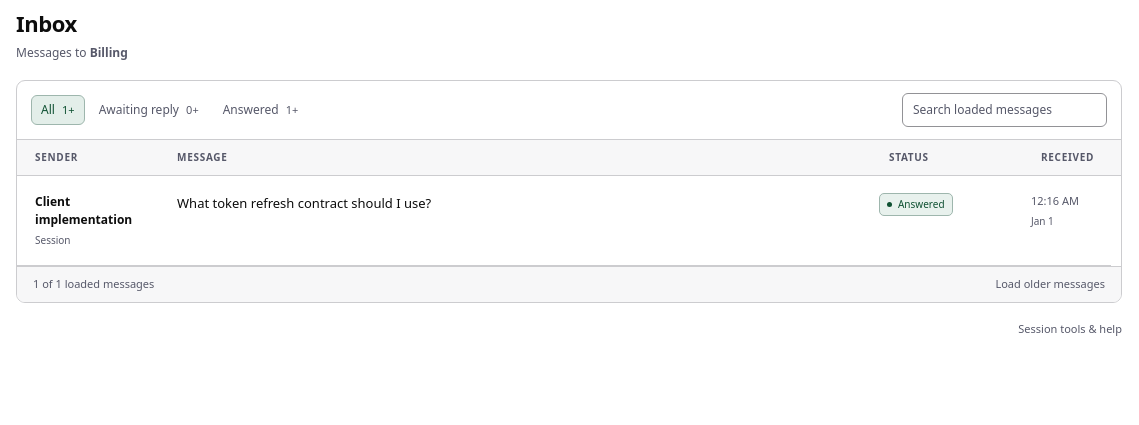
Test: session inbox › loads older messages without losing the latest page
Click the button "Load older messages" at (1050, 284), box [996, 276, 1105, 293]
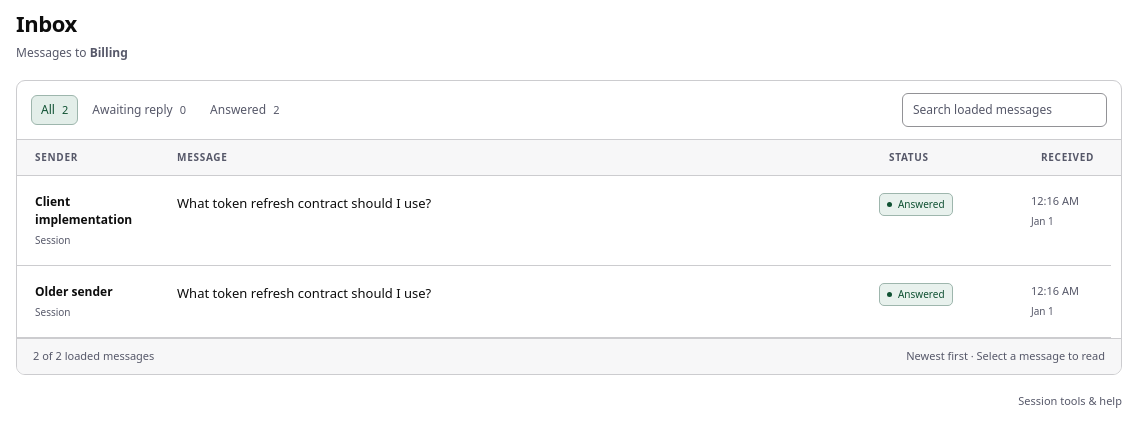
Check: the text "Client implementation" is shown, box [35, 193, 132, 228]
Check: the text "Older sender" is shown, box [35, 283, 112, 300]
